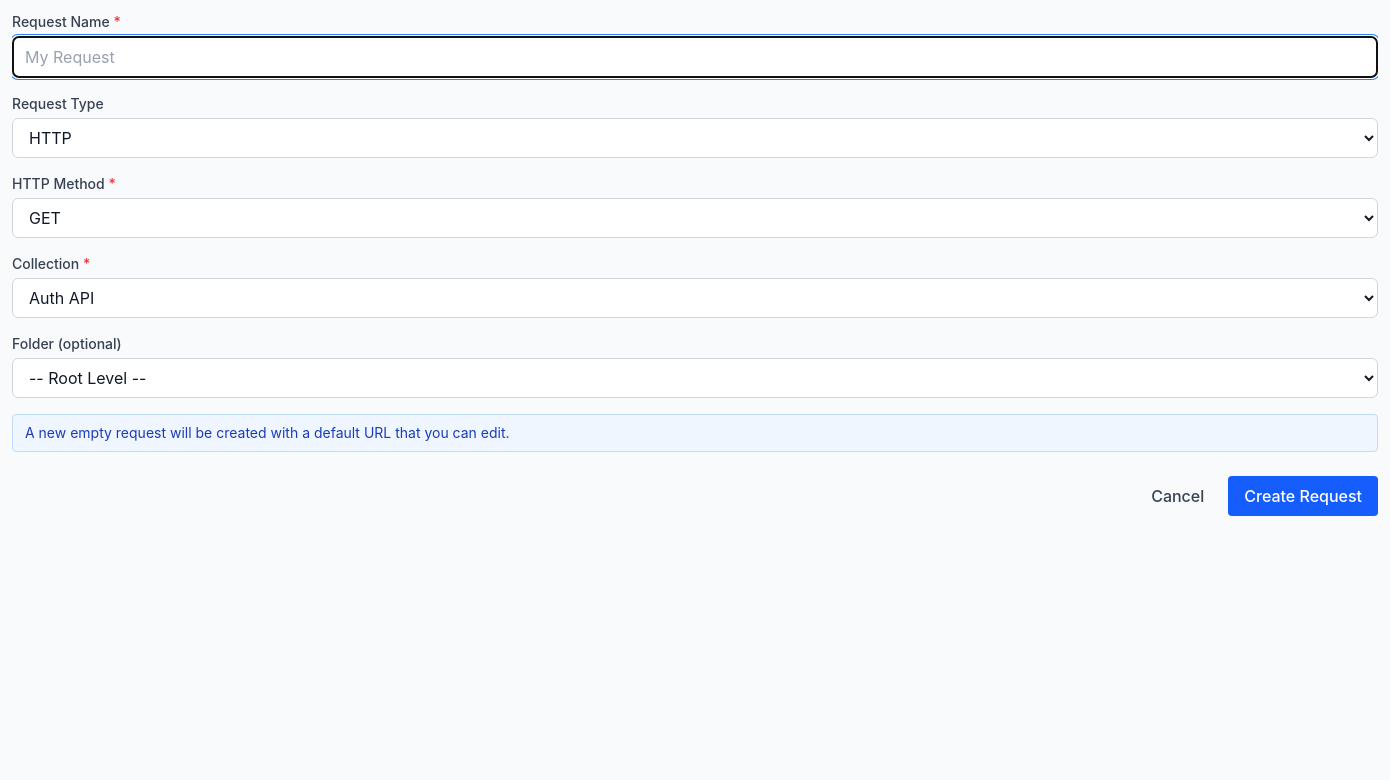
Test: NewRequestForm › shows validation error for empty name
This screenshot has width=1390, height=780.
Click the button "Create Request" at x=1303, y=496, box [1228, 476, 1378, 516]
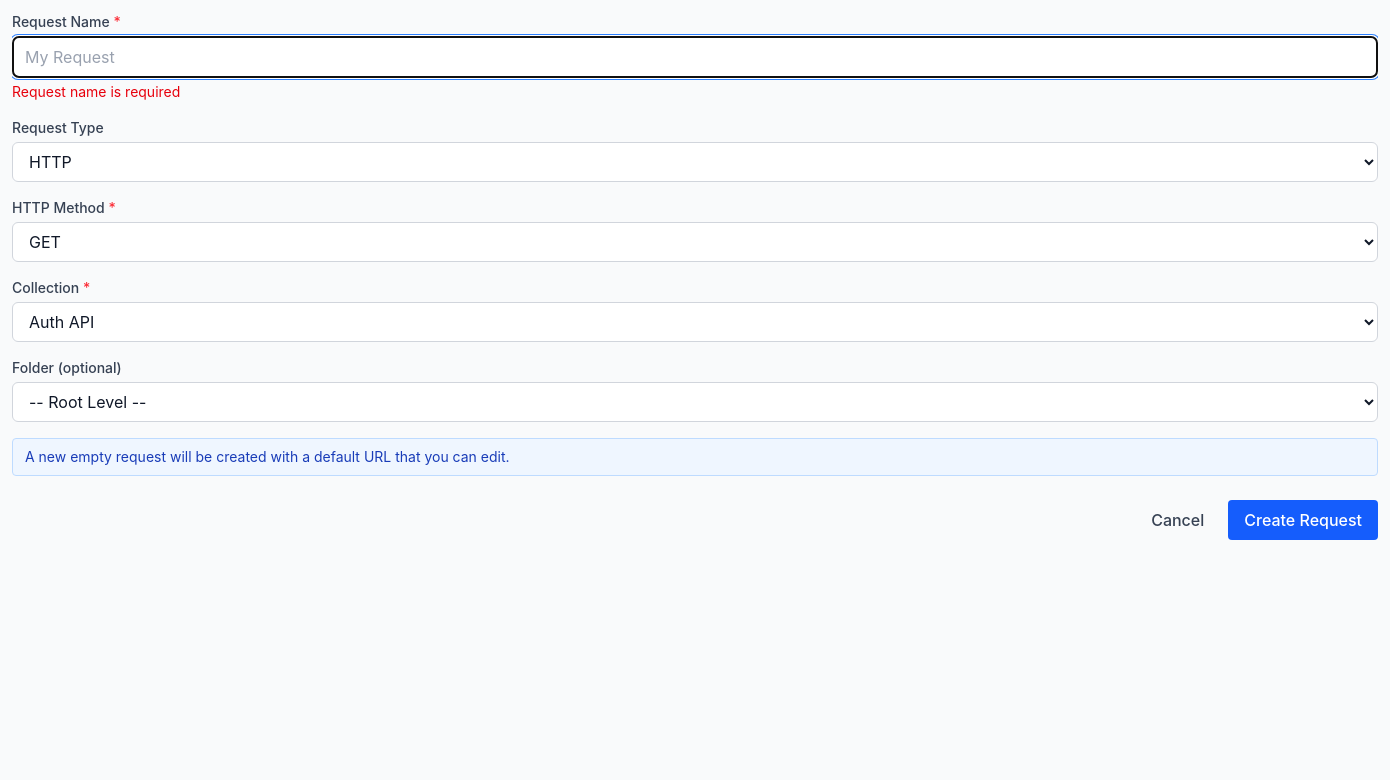
Check: the text "Request name is required" is shown, box [12, 83, 180, 100]
